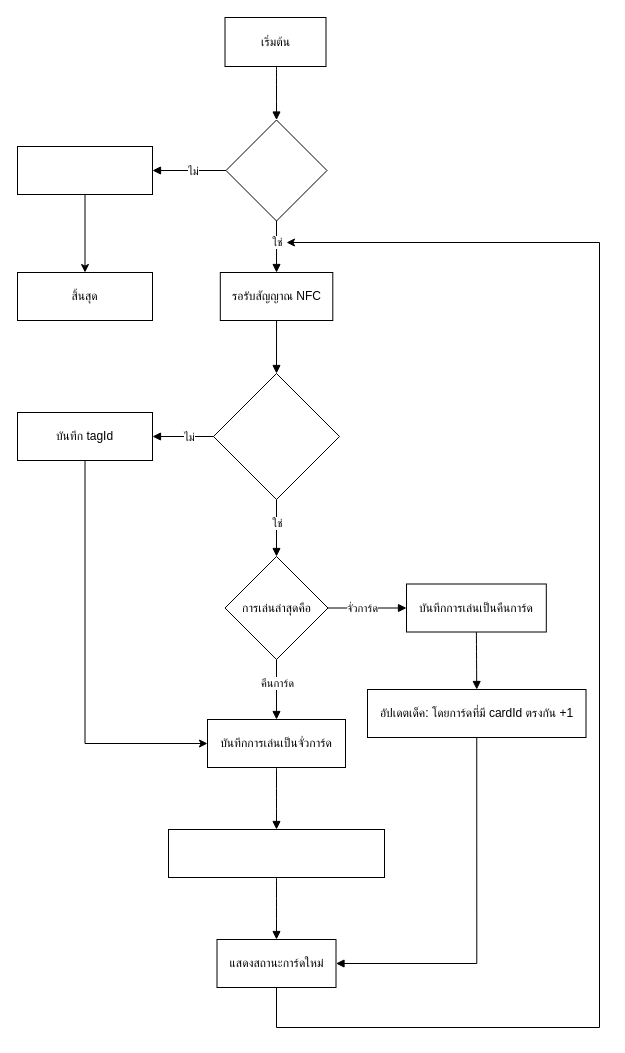
The diagram is 625 pixels wide and 1053 high, and some of its shapes have lost their labels. The centre of each missing label's shape, as x and y in pixels:
"สมาร์ทโฟน รองรับ NDEF" belongs at (x=276, y=170).
"อัปเดตเด็ค: โดยการ์ดที่มี cardId ตรงกัน -1" belongs at (x=276, y=853).
"เคยอ่านแท็กใบนี้แล้ว" belongs at (x=276, y=436).
"แสดงข้อผิดพลาด" belongs at (x=84, y=170).
